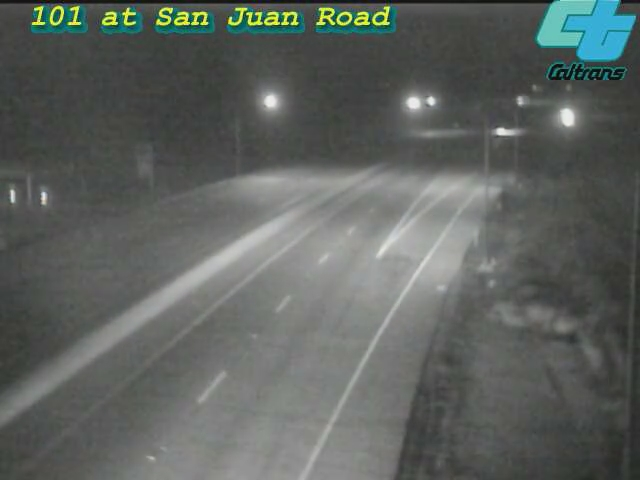vehicle: (476, 107, 526, 157), (539, 93, 589, 143)
